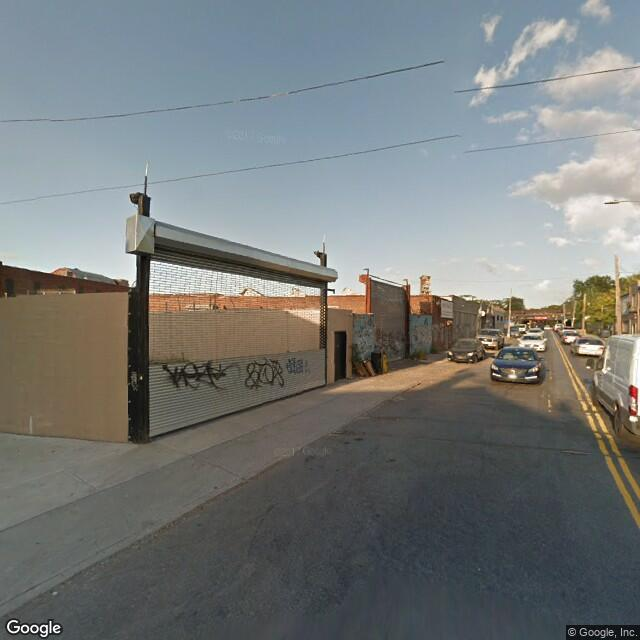litter: (353, 345, 406, 384)
